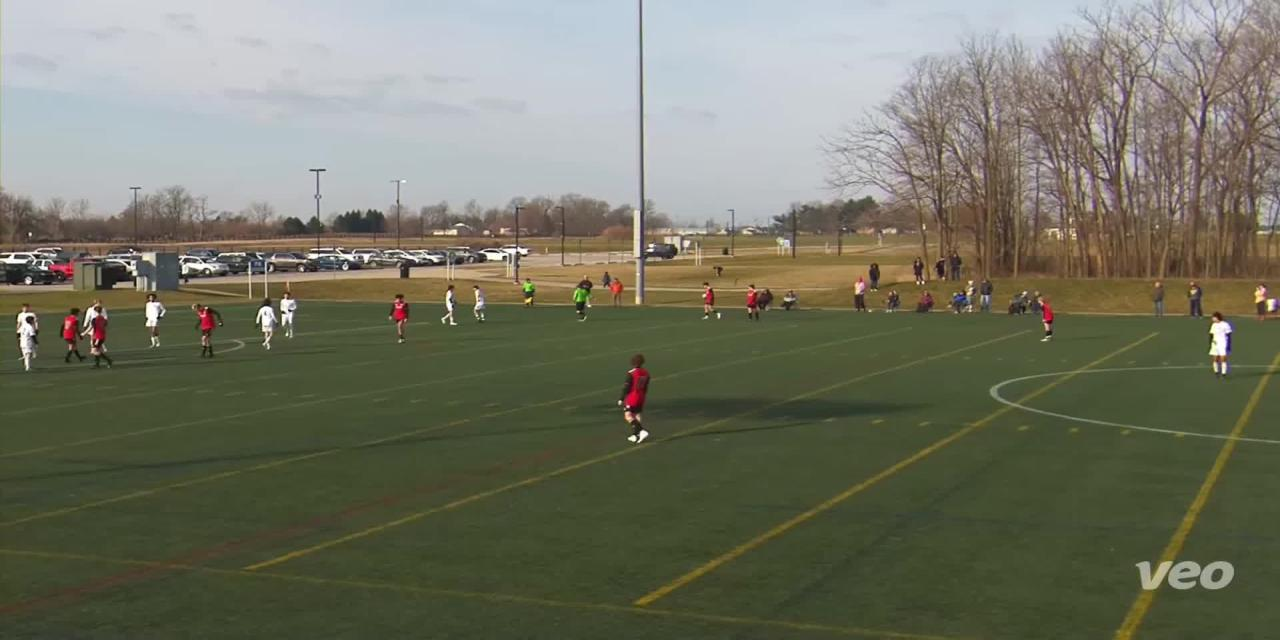sports ball: (699, 290, 710, 302)
